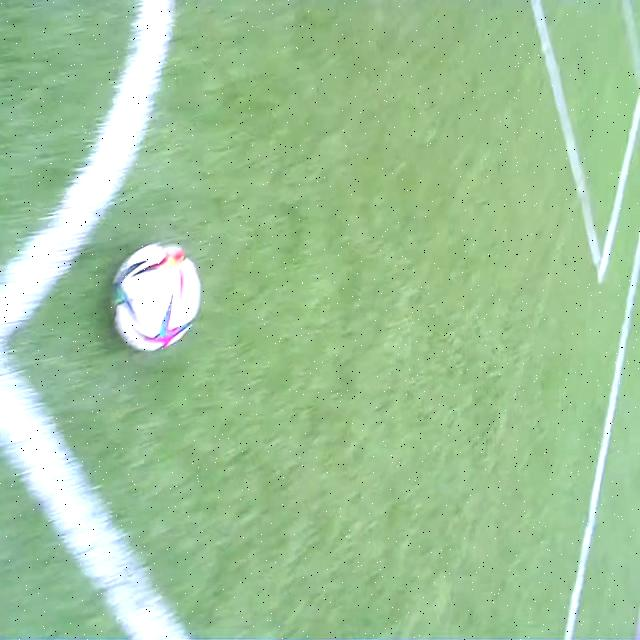ball: (111, 242, 201, 352)
